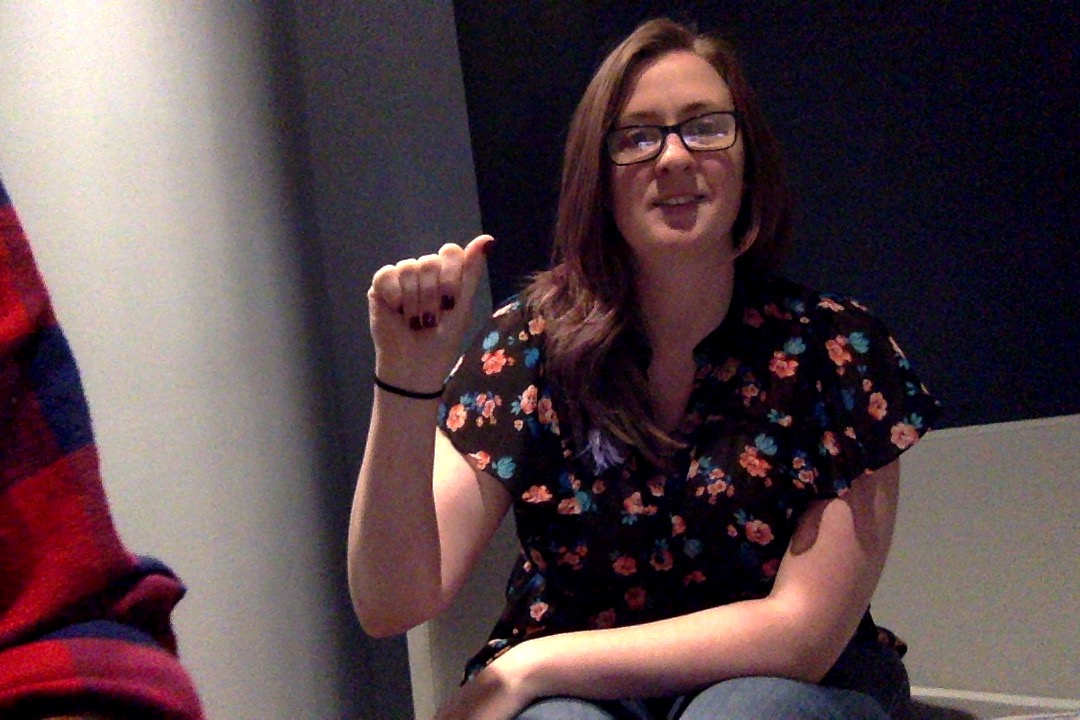a: (357, 226, 494, 424)
